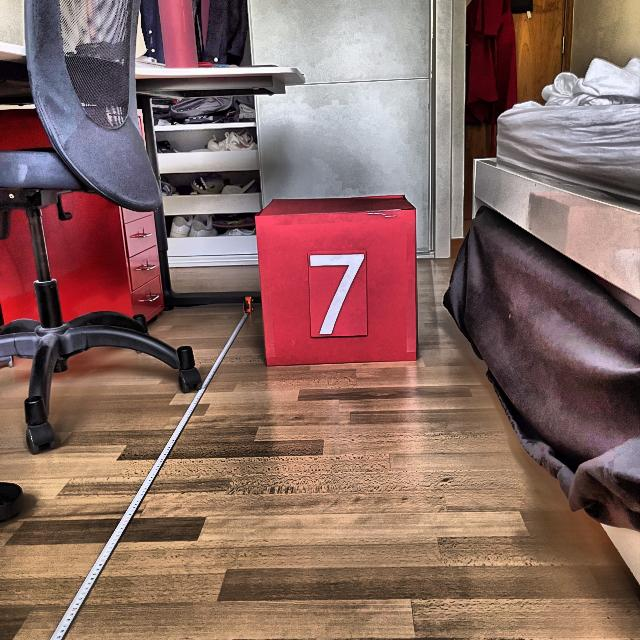red box: (251, 196, 424, 368)
seven: (309, 253, 363, 336)
